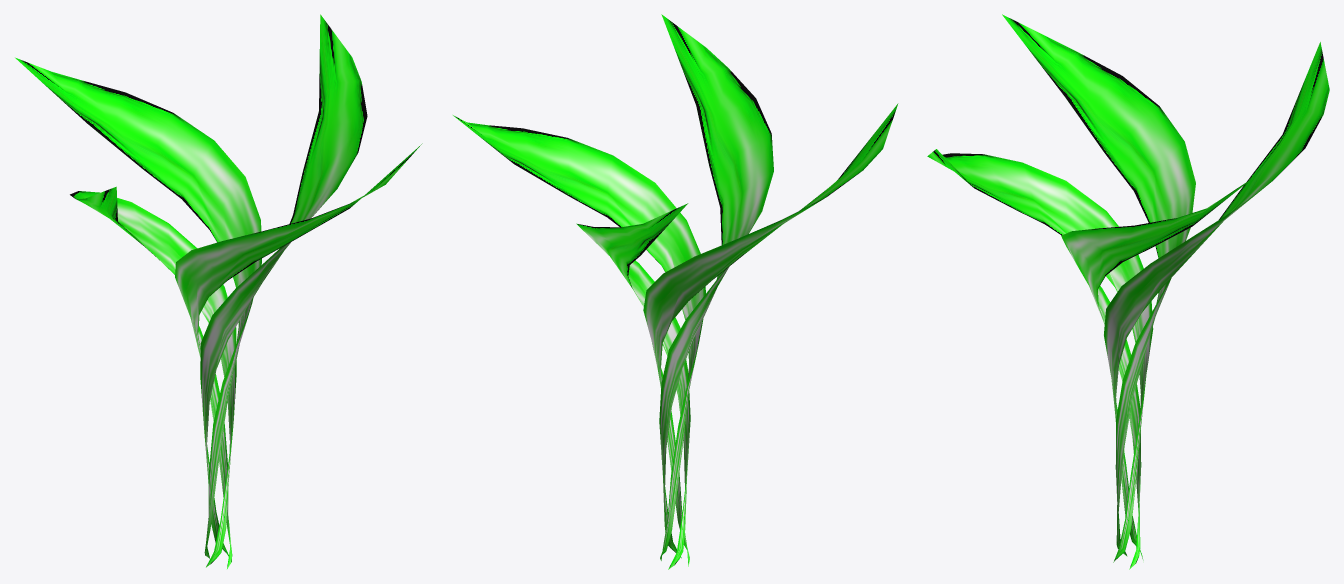
File: effect_test (1).fbx
3 views of the same model, side by side, from view 1: azimuth 30°, elevation 25°; view 2: azimuth 150°, elevation 25°; view 3: azimuth 270°, elevation 25° (orthographic). The views are drawn at different scales.
Visible parts, largest first — view 1: polySurface17; view 2: polySurface17; view 3: polySurface17.
Boxes of the visible parts, x1,y1,x2,y2 form: polySurface17: [15, 14, 422, 568]; polySurface17: [453, 14, 898, 569]; polySurface17: [927, 14, 1329, 569].
Bounding box in the file's own units: 4.76 × 6.1 × 4.76.
